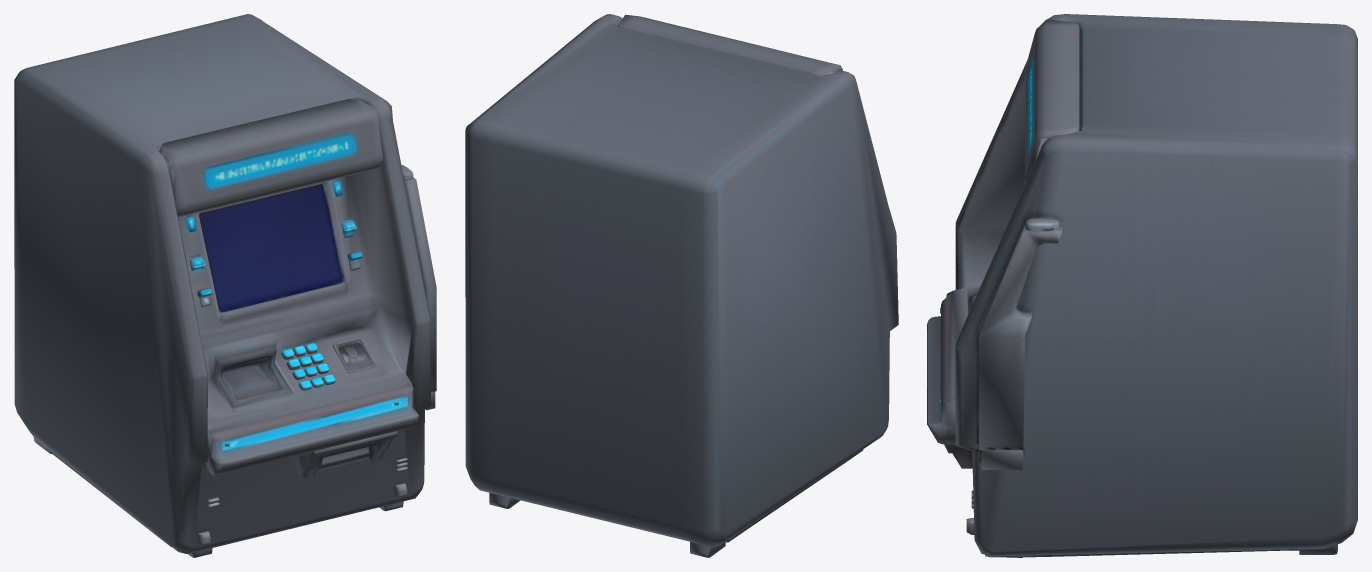
The model's file is Bank_ATM.glb.
The picture shows the model from 3 angles, left to right: view 1: azimuth 30°, elevation 25°; view 2: azimuth 150°, elevation 25°; view 3: azimuth 270°, elevation 25°; orthographic projection. The views are drawn at different scales.
Parts seen in each view (by area): view 1: tripo_node_5e12474b-10a8-48c4-ba59-90e4d93dba2e; view 2: tripo_node_5e12474b-10a8-48c4-ba59-90e4d93dba2e; view 3: tripo_node_5e12474b-10a8-48c4-ba59-90e4d93dba2e.
Boxes of the visible parts, x1,y1,x2,y2 form: tripo_node_5e12474b-10a8-48c4-ba59-90e4d93dba2e: (14,14,436,557); tripo_node_5e12474b-10a8-48c4-ba59-90e4d93dba2e: (465,14,898,557); tripo_node_5e12474b-10a8-48c4-ba59-90e4d93dba2e: (927,14,1357,557).
Size of the model in its own units: 0.7069 by 1 by 0.9179.
1 material, 1 textured.
